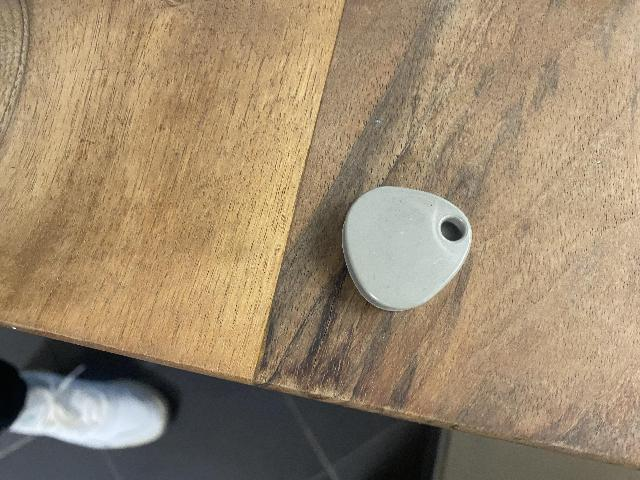Plastik: (340, 189, 484, 311)
